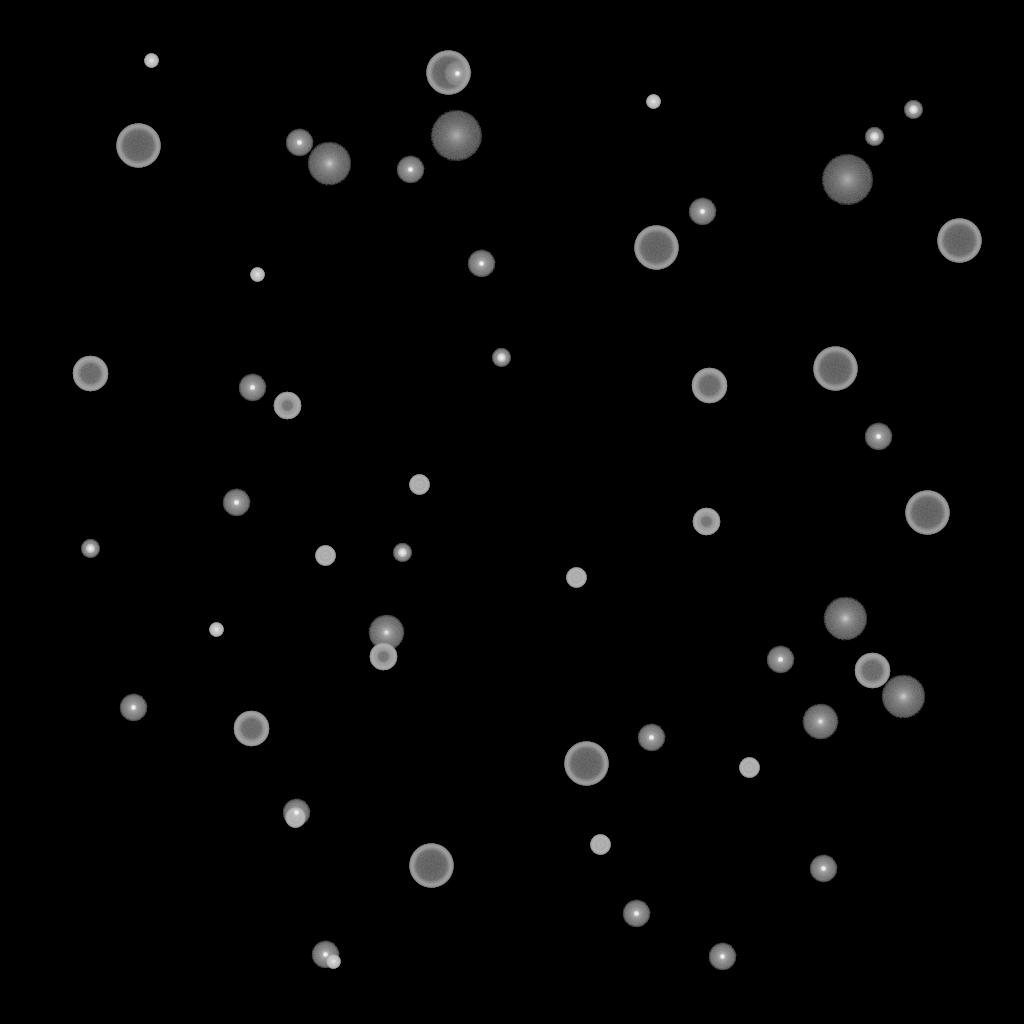depth:-10: (622, 900, 650, 928), (311, 941, 339, 969), (119, 694, 147, 722), (285, 129, 313, 157), (443, 60, 471, 88), (637, 724, 665, 752), (238, 374, 266, 402), (766, 646, 794, 674), (688, 198, 716, 226), (809, 855, 837, 883), (708, 943, 736, 971), (396, 156, 424, 184), (282, 799, 310, 827), (467, 250, 495, 278), (864, 423, 892, 451), (222, 489, 250, 517)
depth:-20: (81, 540, 99, 558), (904, 101, 922, 119), (492, 349, 510, 367), (393, 544, 411, 562), (865, 128, 883, 146)
depth:-30: (250, 268, 264, 282), (209, 623, 223, 637), (326, 955, 340, 969), (646, 95, 660, 109), (144, 54, 158, 68)
depth:-40: (315, 546, 335, 566), (590, 835, 610, 855), (739, 758, 759, 778), (566, 568, 586, 588), (285, 808, 305, 828), (409, 475, 429, 495)
depth:-50: (273, 392, 301, 420), (692, 508, 720, 536), (369, 643, 397, 671)
depth:-60: (72, 356, 108, 392), (854, 653, 890, 689), (691, 368, 727, 404), (233, 711, 269, 747)
depth:-70: (937, 219, 981, 263), (905, 491, 949, 535), (426, 51, 470, 95), (564, 742, 608, 786), (116, 124, 160, 168), (634, 226, 678, 270), (409, 844, 453, 888), (813, 347, 857, 391)
depth:0: (368, 615, 404, 651), (802, 704, 838, 740)
depth:10: (881, 675, 925, 719), (823, 597, 867, 641), (307, 142, 351, 186)
depth:20: (430, 111, 482, 161), (821, 155, 873, 205)
